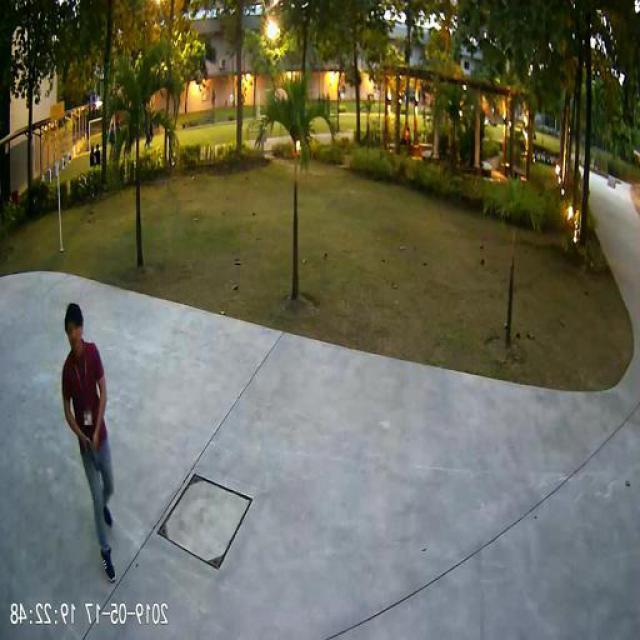Gun: (86, 435, 100, 469)
